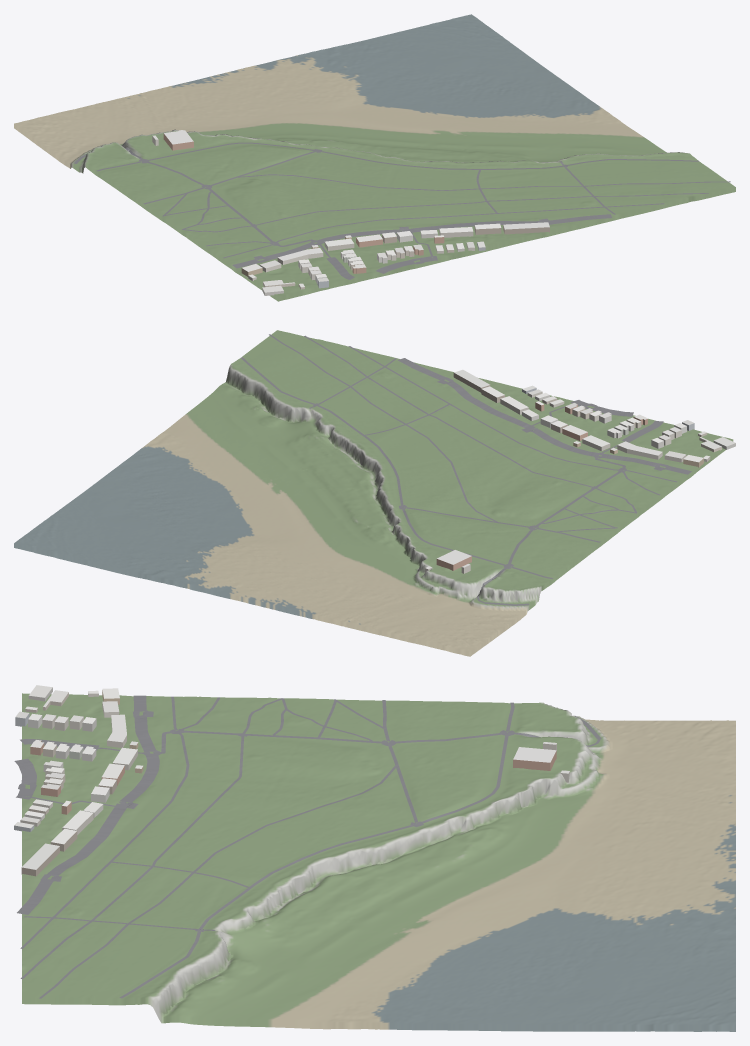
3 renders of one model, top to bottom at view 1: azimuth 30°, elevation 25°; view 2: azimuth 150°, elevation 25°; view 3: azimuth 270°, elevation 25°, orthographic. The views are drawn at different scales.
Parts seen in each view (by area): view 1: prim0, prim2, prim1; view 2: prim0, prim2, prim1; view 3: prim0, prim2, prim1.
Part boxes in pixels (x1,y1,x2,y2): prim0: (14, 14, 735, 301); prim2: (74, 142, 730, 279); prim1: (152, 130, 549, 295); prim0: (14, 330, 733, 656); prim2: (241, 334, 691, 605); prim1: (425, 369, 735, 573); prim0: (22, 693, 735, 1031); prim2: (14, 695, 601, 998); prim1: (14, 685, 569, 876).
Size of the model in its own units: 523 by 35.5 by 518.
